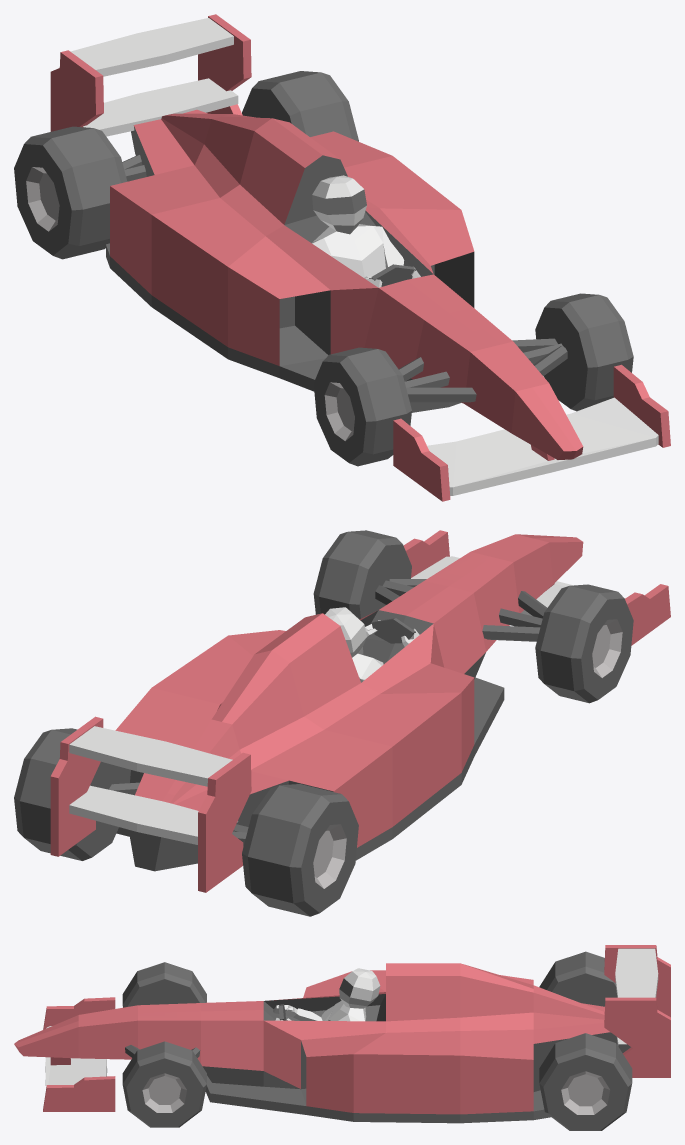
3 renders of one model, top to bottom at view 1: azimuth 30°, elevation 25°; view 2: azimuth 150°, elevation 25°; view 3: azimuth 270°, elevation 25°, orthographic. The views are drawn at different scales.
Parts seen in each view (by area): view 1: car_formula_base, car_formula_wheel_BR, car_formula_wheel_FR, car_formula_wheel_FL, car_formula_wheel_BL; view 2: car_formula_base, car_formula_wheel_BR, car_formula_wheel_FR, car_formula_wheel_FL, car_formula_wheel_BL; view 3: car_formula_base, car_formula_wheel_BL, car_formula_wheel_FL, car_formula_wheel_BR, car_formula_wheel_FR.
Boxes of the visible parts, x1,y1,x2,y2 form: car_formula_base: (50,14,670,501); car_formula_wheel_BR: (14,126,127,259); car_formula_wheel_FR: (313,347,411,466); car_formula_wheel_FL: (535,293,633,411); car_formula_wheel_BL: (242,71,358,141); car_formula_base: (50,530,670,892); car_formula_wheel_BR: (242,784,358,916); car_formula_wheel_FR: (535,584,633,703); car_formula_wheel_FL: (313,530,411,619); car_formula_wheel_BL: (14,728,130,860); car_formula_base: (14,945,670,1123); car_formula_wheel_BL: (539,1033,632,1130); car_formula_wheel_FL: (122,1041,206,1127); car_formula_wheel_BR: (539,951,617,1006); car_formula_wheel_FR: (122,962,206,1007).
Bounding box in the file's own units: 180 × 97.45 × 486.
